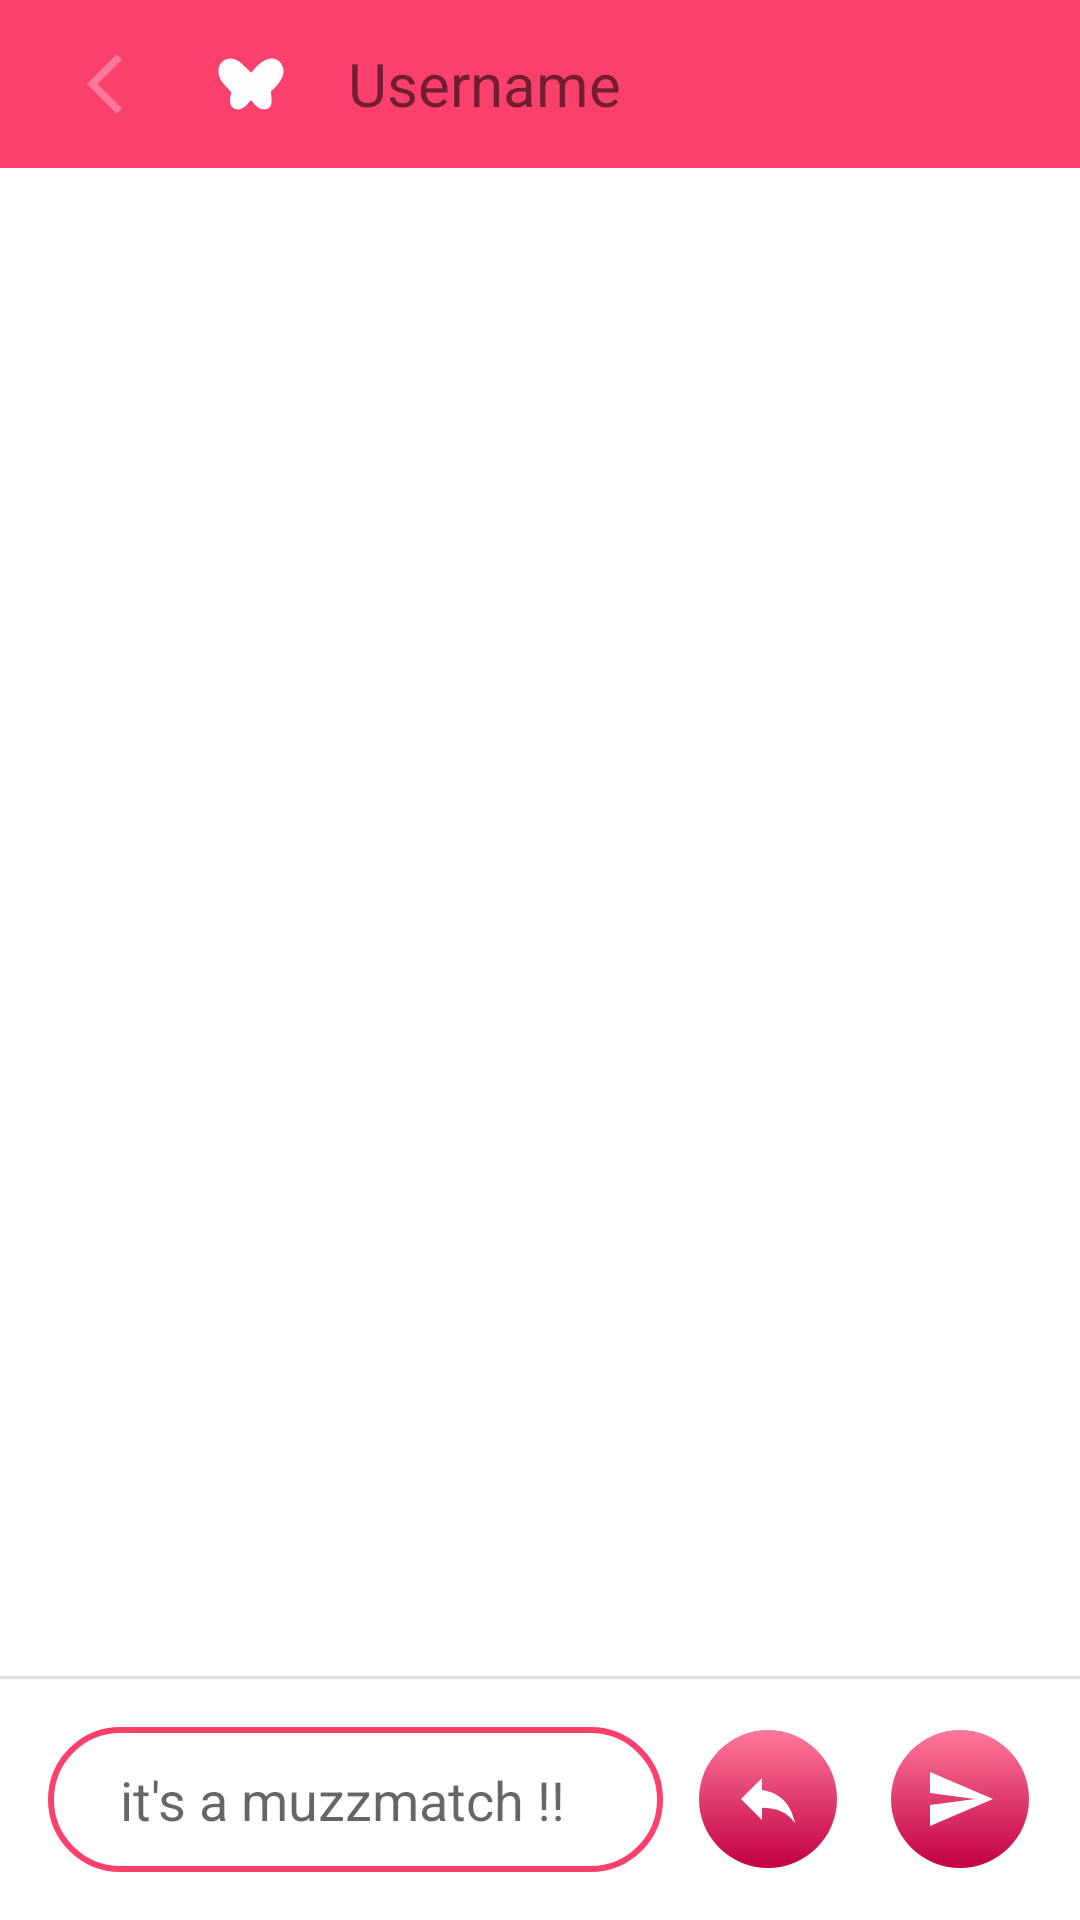

Locate icon controls on the screen. Image size 1080 × 1920, boxes as bbox=(x1, y1, x2, y2).
Back: bbox=(87, 54, 122, 114)
Reply to the message: bbox=(699, 1730, 837, 1868)
Send Message: bbox=(891, 1730, 1029, 1868)
